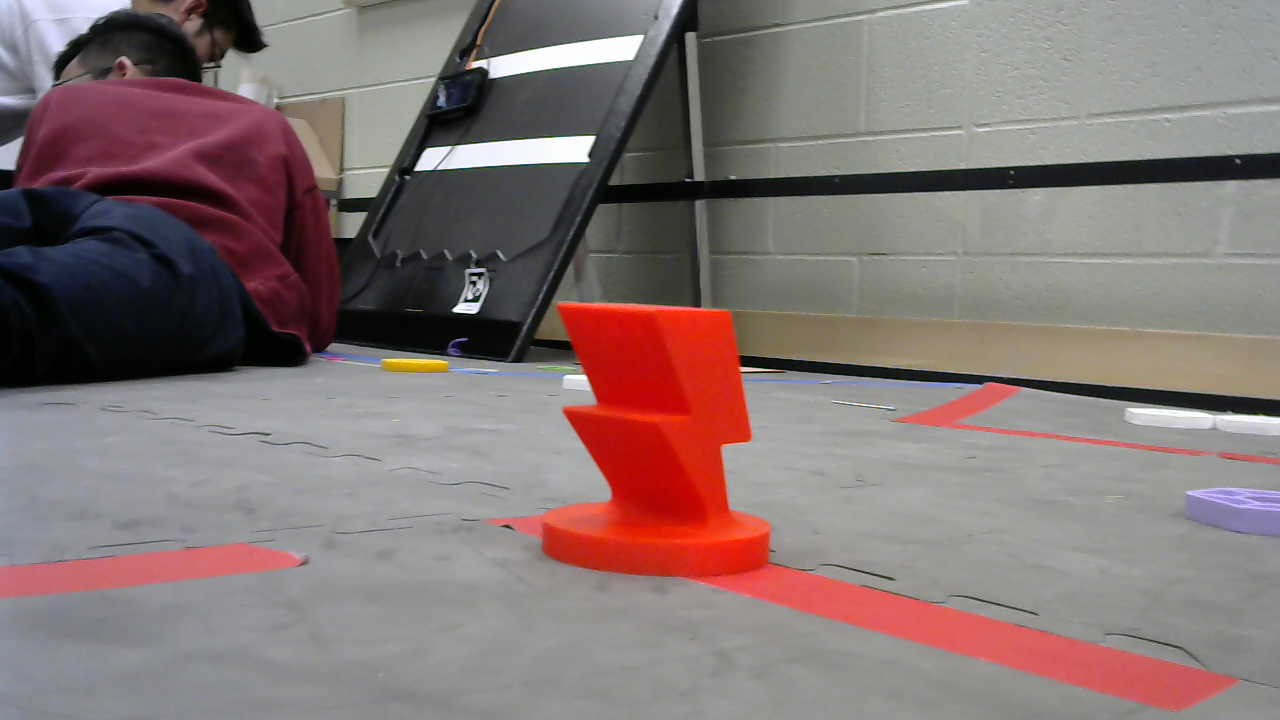redobject: (539, 299, 772, 575)
